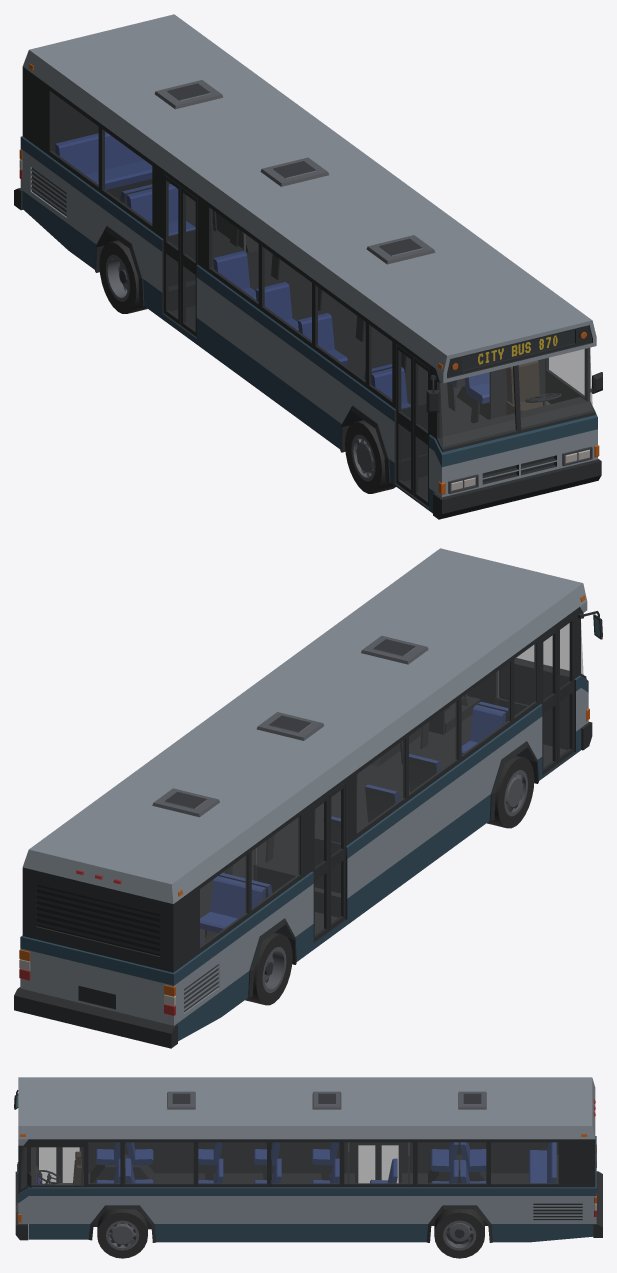
The model's file is 01_CITY_BUS.glb.
The picture shows the model from 3 angles, top to bottom: view 1: azimuth 30°, elevation 25°; view 2: azimuth 150°, elevation 25°; view 3: azimuth 270°, elevation 25°; orthographic projection. The views are drawn at different scales.
Visible parts, largest first — view 1: CITY_BUS, WINDOWS, INTERIOR.002, WHEEL BIG.1R, WHEEL BIG.2R, DOOR 2, DOOR 4, DOOR 1, DOOR 3, WIN 2.001, WIN 3.001, WIN 1.001 (+1 smaller); view 2: CITY_BUS, WINDOWS, INTERIOR.002, WHEEL BIG.1R, WHEEL BIG.2R, DOOR 1, DOOR 2, DOOR 3, DOOR 4, WIN 1.001, WIN 3.001, WIN 2.001 (+1 smaller); view 3: CITY_BUS, WINDOWS, INTERIOR.002, WHEEL BIG.2L, WHEEL BIG.1L, WIN 3.001, WIN 1.001, WIN 2.001, DOOR 3, DOOR 4, WIN 4.001.
Boxes of the visible parts, x1,y1,x2,y2 form: CITY_BUS: [14, 14, 602, 519]; WINDOWS: [50, 92, 592, 446]; INTERIOR.002: [55, 131, 561, 459]; WHEEL BIG.1R: [345, 420, 395, 493]; WHEEL BIG.2R: [99, 240, 147, 313]; DOOR 2: [396, 344, 413, 495]; DOOR 4: [163, 174, 180, 325]; DOOR 1: [413, 357, 430, 506]; DOOR 3: [181, 187, 197, 336]; WIN 2.001: [401, 353, 410, 486]; WIN 3.001: [186, 195, 195, 328]; WIN 1.001: [418, 365, 427, 499]; CITY_BUS: [14, 548, 602, 1048]; WINDOWS: [200, 623, 583, 947]; INTERIOR.002: [200, 670, 528, 945]; WHEEL BIG.1R: [487, 755, 534, 828]; WHEEL BIG.2R: [245, 932, 292, 1005]; DOOR 1: [557, 615, 574, 763]; DOOR 2: [541, 627, 557, 774]; DOOR 3: [329, 783, 345, 930]; DOOR 4: [312, 795, 328, 942]; WIN 1.001: [560, 623, 569, 754]; WIN 3.001: [331, 791, 340, 922]; WIN 2.001: [543, 636, 552, 767]; CITY_BUS: [14, 1077, 602, 1242]; WINDOWS: [21, 1142, 558, 1189]; INTERIOR.002: [36, 1142, 556, 1184]; WHEEL BIG.2L: [434, 1209, 484, 1258]; WHEEL BIG.1L: [97, 1209, 147, 1258]; WIN 3.001: [359, 1146, 374, 1182]; WIN 1.001: [39, 1148, 55, 1183]; WIN 2.001: [63, 1148, 78, 1182]; DOOR 3: [355, 1142, 378, 1183]; DOOR 4: [378, 1142, 401, 1183]; WIN 4.001: [382, 1146, 397, 1182].
Size of the model in its own units: 2.88 by 2.88 by 11.6.
Materials: 2 (2 with a texture image).
